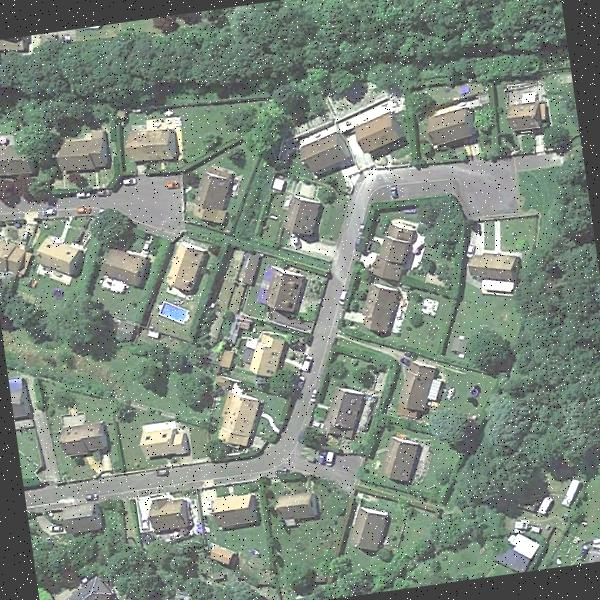Buildings: (156, 238, 214, 295), (190, 166, 240, 224), (55, 128, 112, 173), (120, 122, 179, 165), (301, 127, 352, 174), (212, 398, 262, 444), (324, 387, 368, 438), (396, 366, 438, 419), (374, 226, 414, 280), (268, 261, 307, 316), (204, 490, 256, 531), (59, 418, 114, 456), (32, 238, 84, 278), (142, 494, 194, 534), (381, 435, 421, 483), (55, 496, 105, 534), (142, 421, 189, 459), (346, 509, 388, 551), (360, 287, 398, 333), (107, 247, 150, 287), (272, 486, 315, 526), (426, 107, 470, 146), (470, 252, 518, 283), (248, 338, 284, 375), (360, 113, 396, 148), (280, 201, 316, 233), (505, 105, 540, 135), (62, 583, 112, 600), (0, 241, 24, 267), (0, 150, 20, 176)
